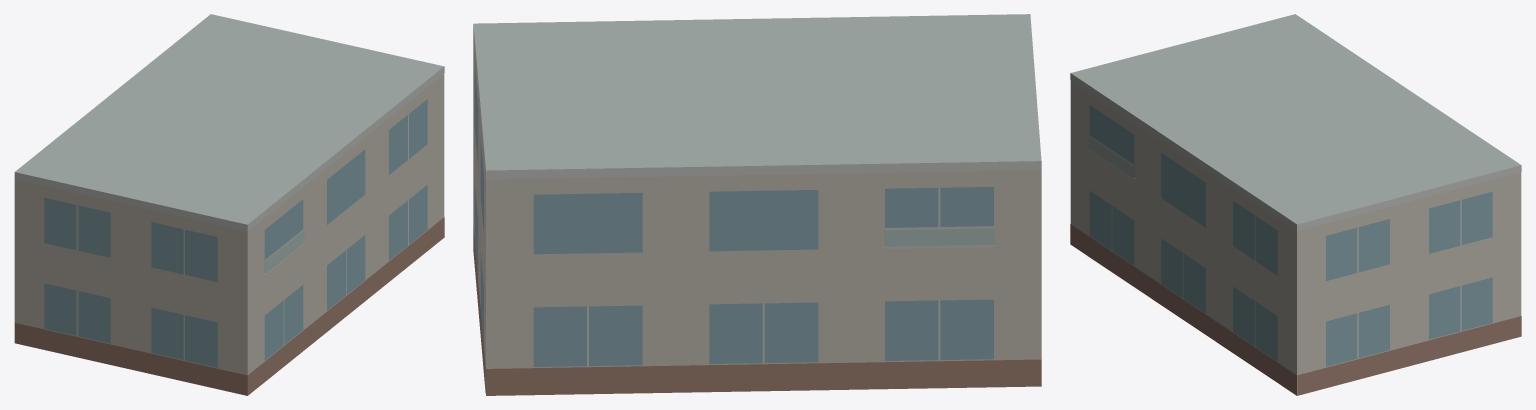
Rendered from survey-upis-32917993.glb.
3 renders of one model, left to right at view 1: azimuth 30°, elevation 25°; view 2: azimuth 150°, elevation 25°; view 3: azimuth 270°, elevation 25°, orthographic. The views are drawn at different scales.
Visible parts, largest first — view 1: survey-upis-32917993.tmp; view 2: survey-upis-32917993.tmp; view 3: survey-upis-32917993.tmp.
Boxes of the visible parts, x1,y1,x2,y2 form: survey-upis-32917993.tmp: [14, 14, 444, 395]; survey-upis-32917993.tmp: [473, 14, 1041, 395]; survey-upis-32917993.tmp: [1070, 14, 1521, 395].
Bounding box in the file's own units: 16.07 × 6.1 × 14.55.
